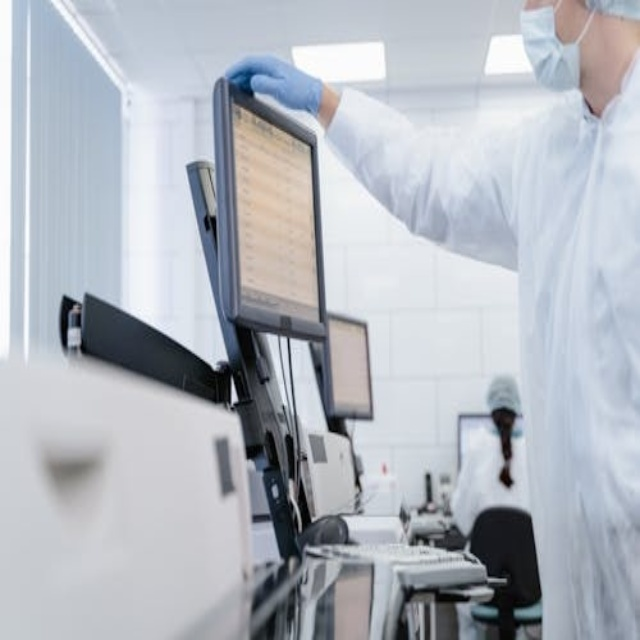Guantes: (224, 54, 324, 118)
Mascara: (516, 2, 604, 102)
